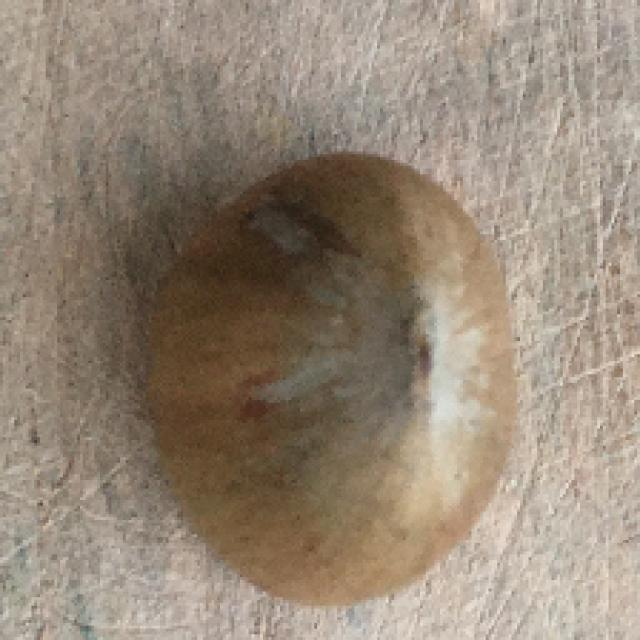DamagedHazelnut: (147, 150, 522, 602)
